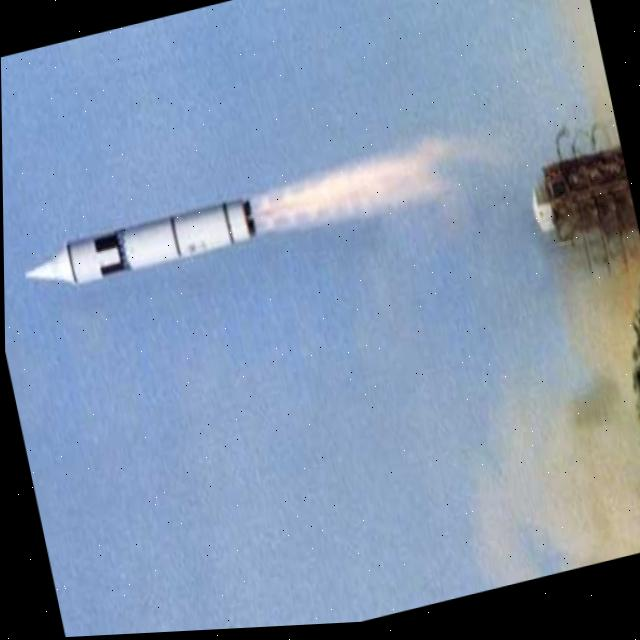missile: (14, 181, 263, 308)
